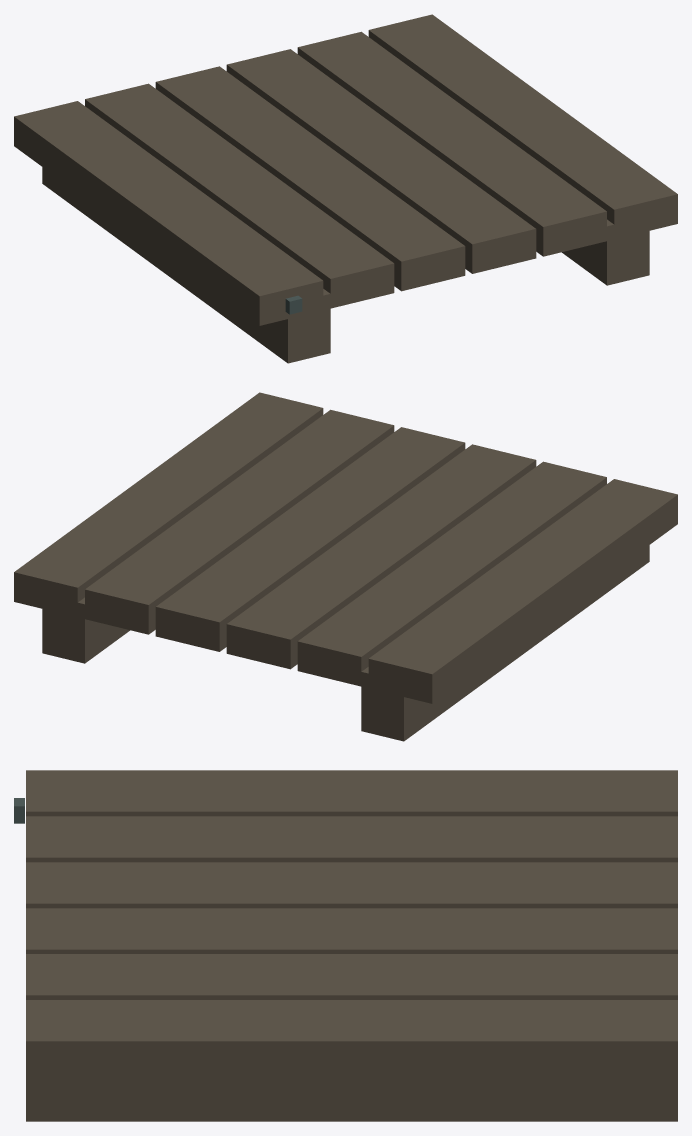
Rendered from pallet-3.glb.
The picture shows the model from 3 angles, top to bottom: view 1: azimuth 30°, elevation 25°; view 2: azimuth 150°, elevation 25°; view 3: azimuth 270°, elevation 25°; orthographic projection. The views are drawn at different scales.
Visible parts, largest first — view 1: pallet/2/KR-230-3; view 2: pallet/2/KR-230-3; view 3: pallet/2/KR-230-3.
Boxes of the visible parts, x1,y1,x2,y2 form: pallet/2/KR-230-3: [14, 14, 677, 363]; pallet/2/KR-230-3: [14, 392, 677, 741]; pallet/2/KR-230-3: [14, 770, 677, 1121].
Size of the model in its own units: 1.18 by 0.2 by 1.22.
